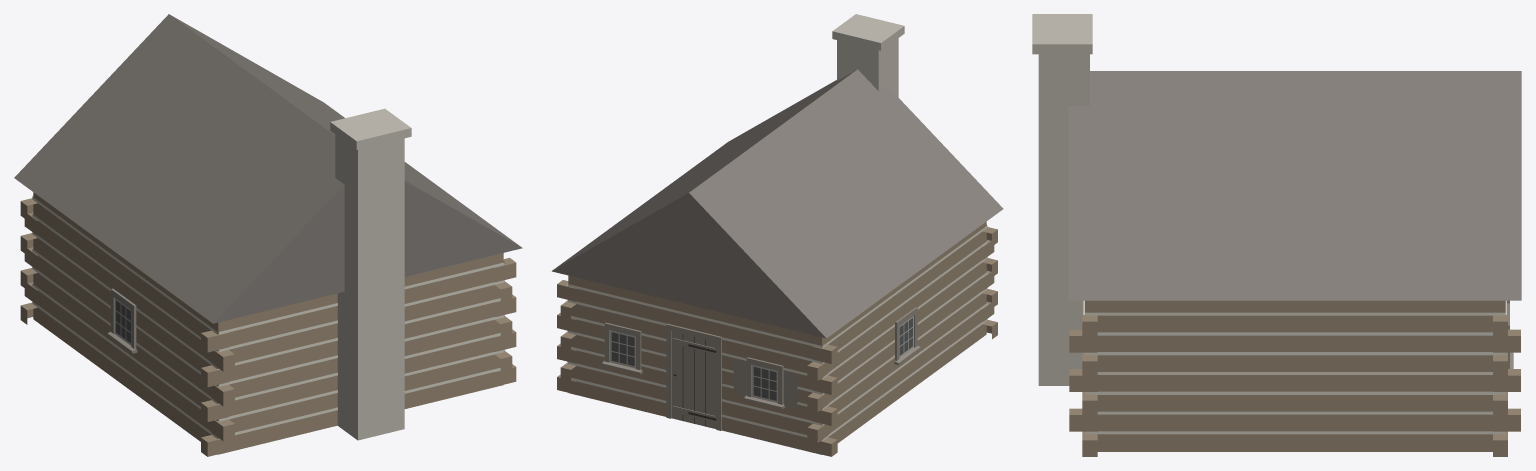
The model's file is recon_1835_south_d1_032__inferred_1835.glb.
3 renders of one model, left to right at view 1: azimuth 30°, elevation 25°; view 2: azimuth 150°, elevation 25°; view 3: azimuth 270°, elevation 25°, orthographic. The views are drawn at different scales.
Parts seen in each view (by area): view 1: recon_1835_south_d1_032__inferred_1835; view 2: recon_1835_south_d1_032__inferred_1835; view 3: recon_1835_south_d1_032__inferred_1835.
Boxes of the visible parts, x1,y1,x2,y2 form: recon_1835_south_d1_032__inferred_1835: [14, 14, 522, 456]; recon_1835_south_d1_032__inferred_1835: [552, 14, 1003, 456]; recon_1835_south_d1_032__inferred_1835: [1032, 14, 1521, 456].
Size of the model in its own units: 6.34 by 5.9 by 7.62.
